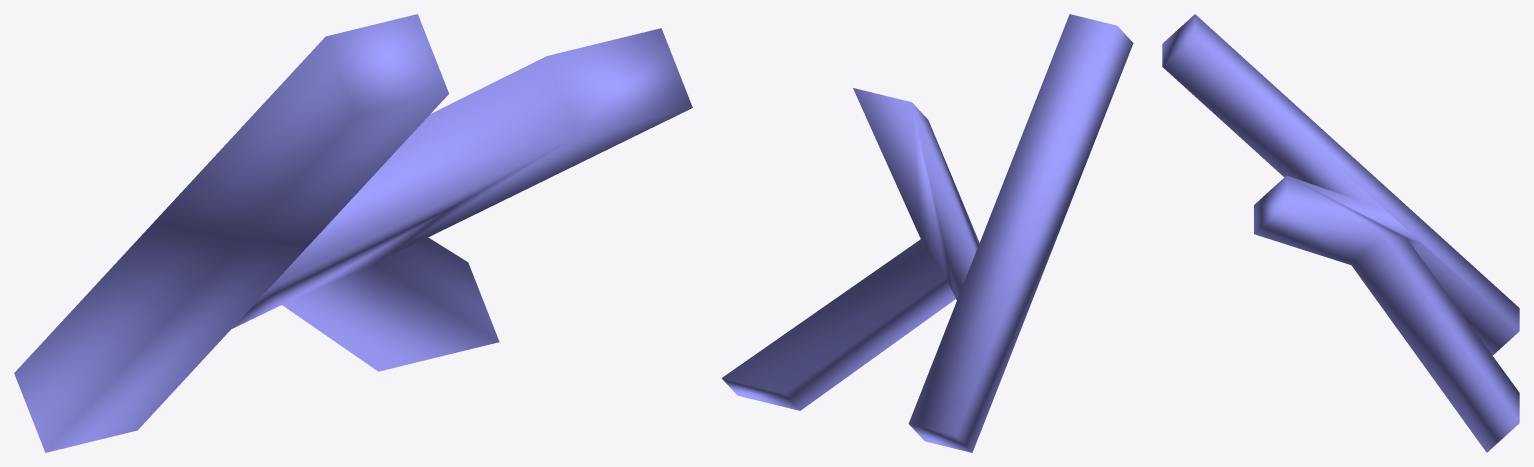
File: original-8.obj
The picture shows the model from 3 angles, left to right: view 1: azimuth 30°, elevation 25°; view 2: azimuth 150°, elevation 25°; view 3: azimuth 270°, elevation 25°; orthographic projection. The views are drawn at different scales.
Parts seen in each view (by area): view 1: mesh6/mesh6-geometry#mesh6-geometry; view 2: mesh6/mesh6-geometry#mesh6-geometry; view 3: mesh6/mesh6-geometry#mesh6-geometry.
Part boxes in pixels (box(x1,y1,x2,y2)): mesh6/mesh6-geometry#mesh6-geometry: box(14, 14, 692, 452); mesh6/mesh6-geometry#mesh6-geometry: box(721, 14, 1133, 452); mesh6/mesh6-geometry#mesh6-geometry: box(1162, 14, 1519, 452).
Size of the model in its own units: 0.0603 by 0.0789 by 0.0789.
